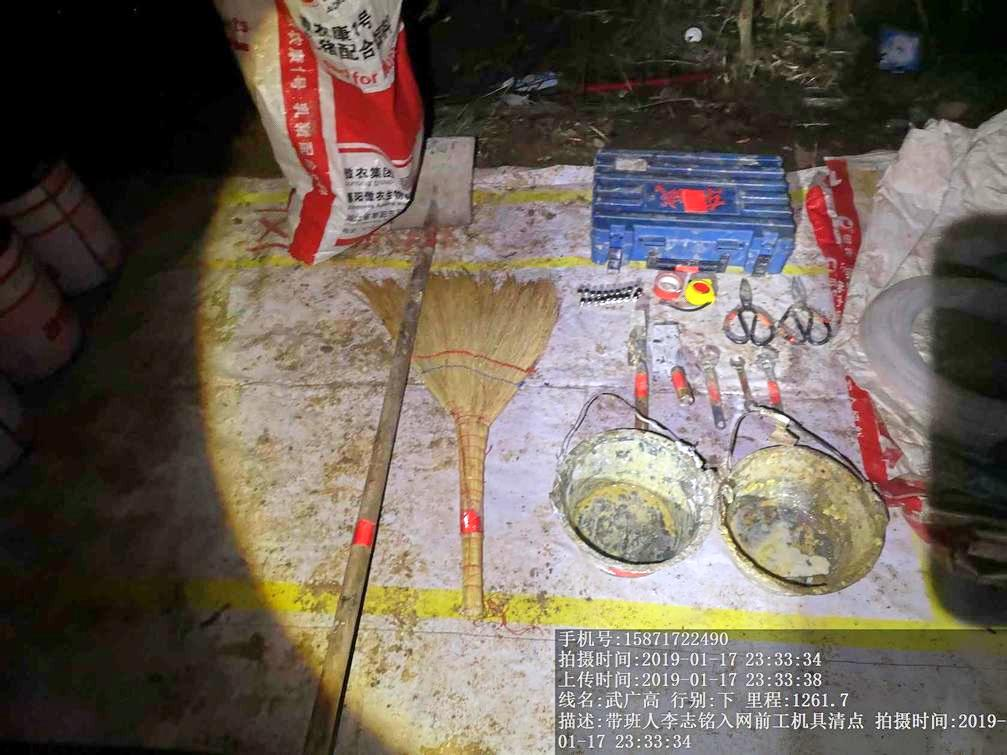SB: (369, 283, 566, 611)
SG: (860, 274, 1007, 424)
SNT: (541, 419, 714, 580), (721, 445, 884, 596)
